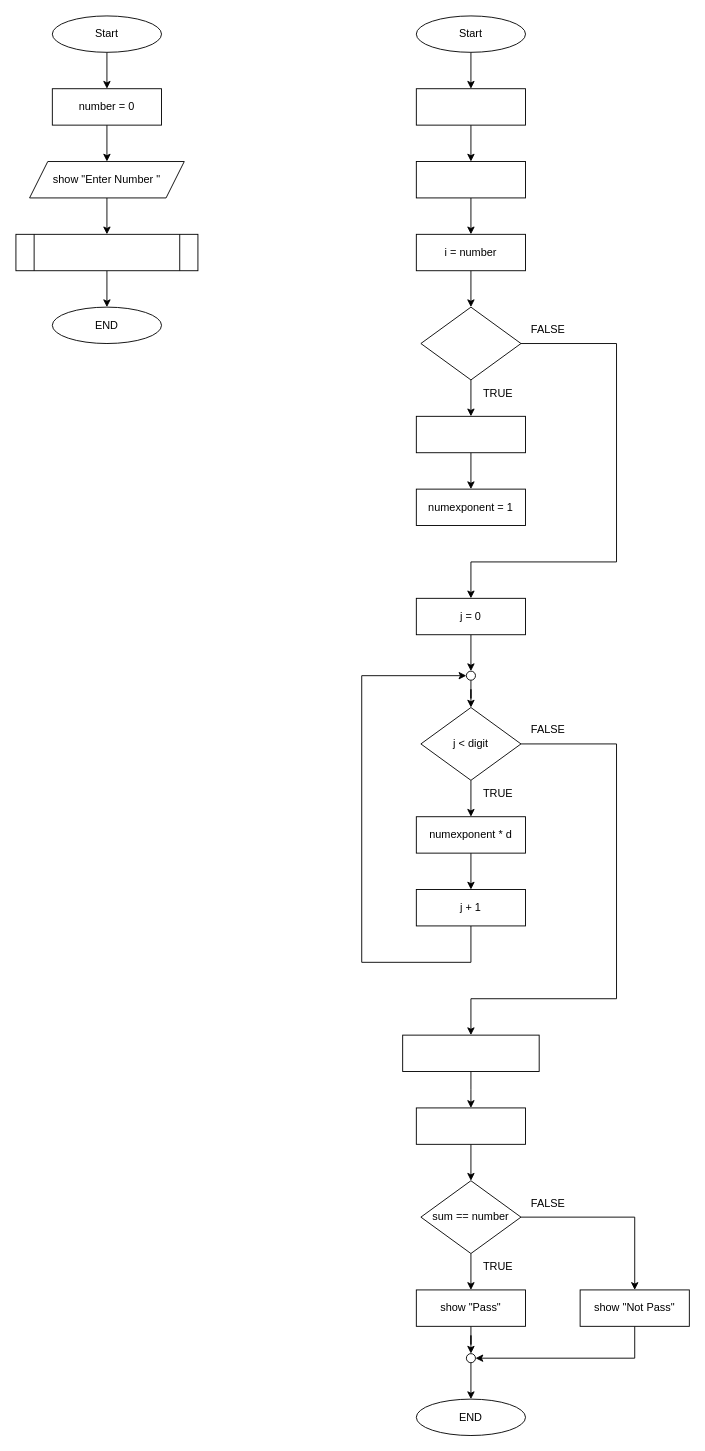
Some shapes in this 705 by 1451 pixel diagram are drawn without their labels. Each missing label, with the box of its shape:
checkArmstrongnum: (15, 233, 198, 271)
d = i mod 10: (415, 415, 526, 453)
digit = 0: (415, 88, 526, 125)
i / 10: (415, 1107, 526, 1144)
i > 0 ?: (420, 306, 521, 380)
sum + numexponent: (402, 1034, 539, 1072)
sum = 0;: (415, 161, 526, 198)
